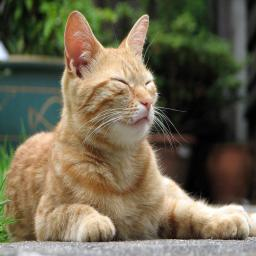catnose: (139, 97, 154, 113)
